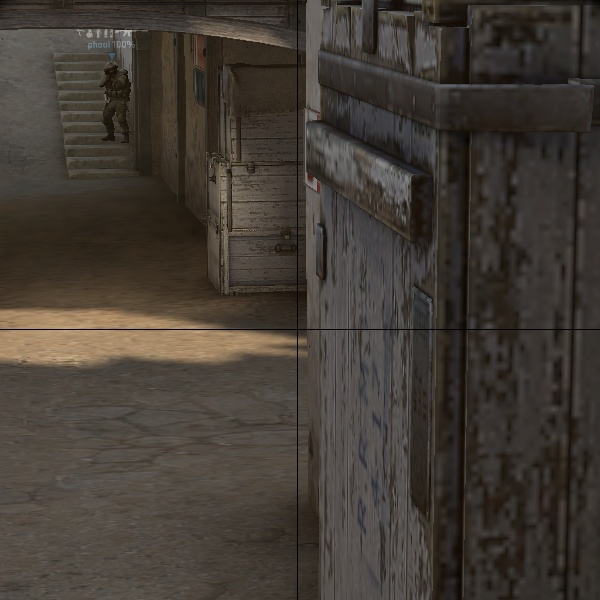ct_body: (100, 62, 131, 143)
ct_head: (104, 61, 119, 77)
